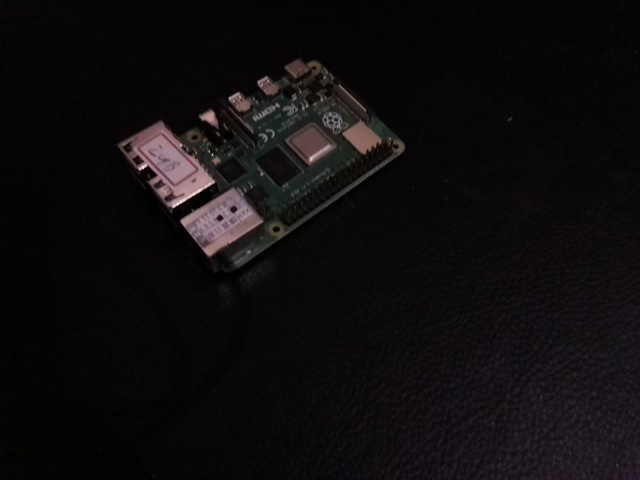pi4: (106, 13, 408, 315)
